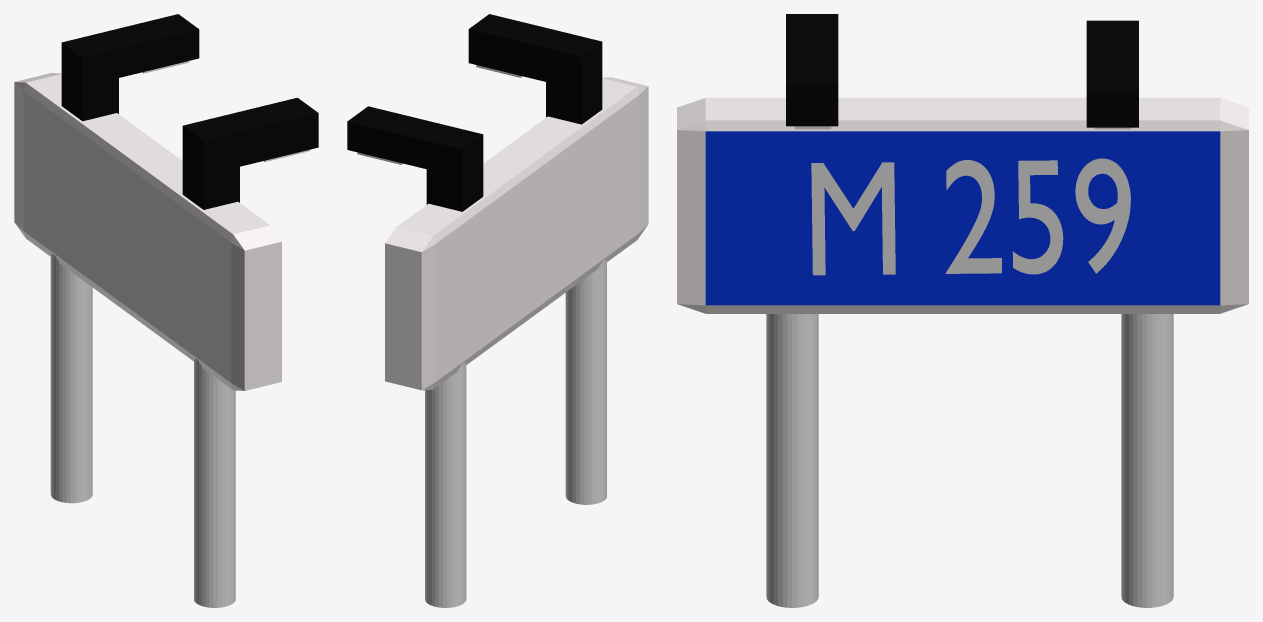
Rendered from UK_motorway_start_1.fbx.
3 views of the same model, side by side, from view 1: azimuth 30°, elevation 25°; view 2: azimuth 150°, elevation 25°; view 3: azimuth 270°, elevation 25° (orthographic). The views are drawn at different scales.
Visible parts, largest first — view 1: Cube, Cylinder.001, Cylinder, Cube.001, Cube.002; view 2: Cube, Cylinder.001, Cylinder, Cube.001, Cube.002; view 3: Cube, Cylinder, Cylinder.001, Text, Cube.001, Cube.002.
Part boxes in pixels (<box>): Cube: <box>14,73,281,390</box>; Cylinder.001: <box>50,254,92,503</box>; Cylinder: <box>194,358,235,607</box>; Cube.001: <box>182,97,318,209</box>; Cube.002: <box>61,14,199,121</box>; Cube: <box>385,77,648,390</box>; Cylinder.001: <box>425,362,466,607</box>; Cylinder: <box>565,259,606,504</box>; Cube.001: <box>468,14,602,124</box>; Cube.002: <box>347,106,483,211</box>; Cube: <box>677,97,1248,313</box>; Cylinder: <box>766,314,818,607</box>; Cylinder.001: <box>1121,314,1173,607</box>; Text: <box>811,158,1130,275</box>; Cube.001: <box>786,14,838,126</box>; Cube.002: <box>1086,20,1138,127</box>.
Size of the model in its own units: 6.69 by 24.3 by 21.91.
